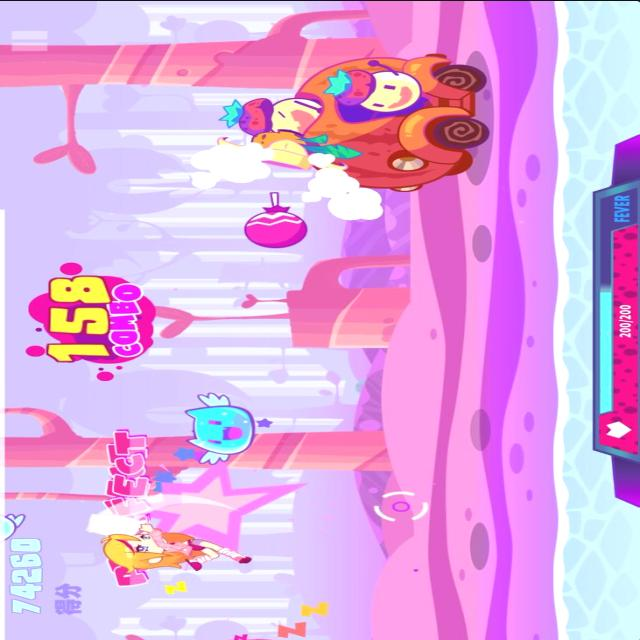cheboss: (217, 50, 482, 196)
mao: (187, 389, 254, 464)
tang: (242, 189, 310, 249)
